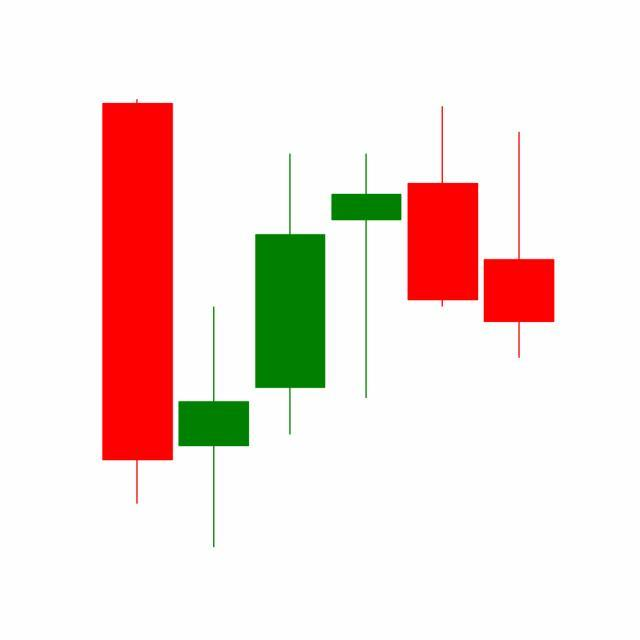Three Outside Up-Down: (326, 104, 555, 402)
